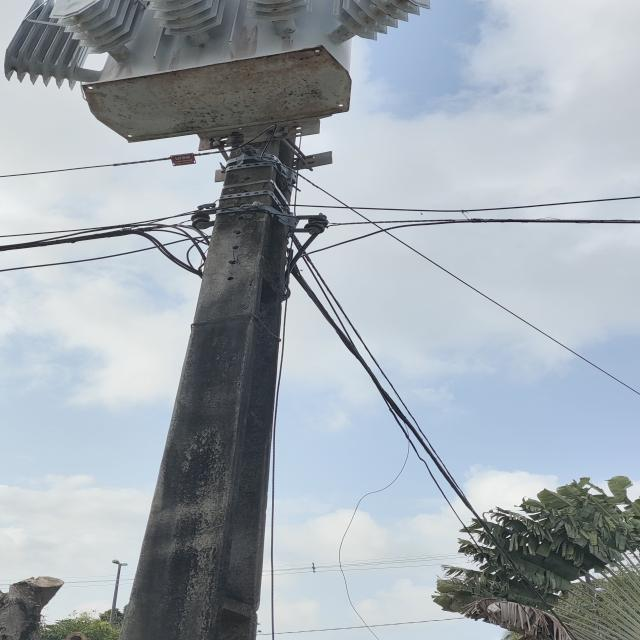Plaqueta: (170, 152, 197, 166)
